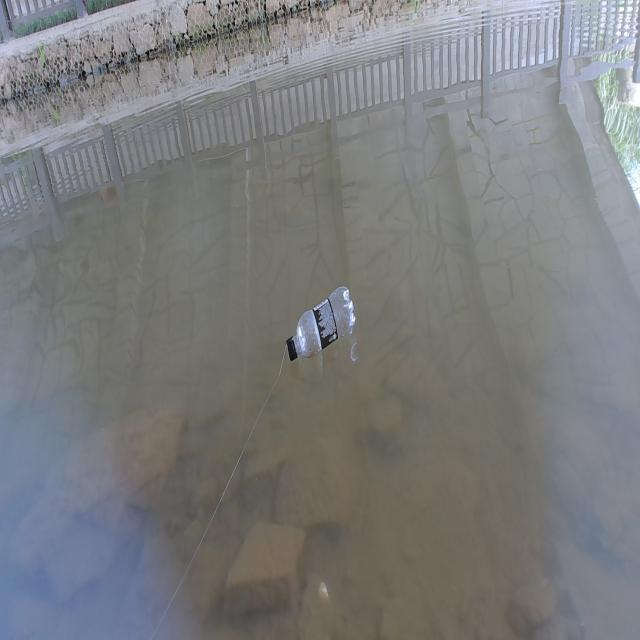garbage: (285, 284, 357, 363)
